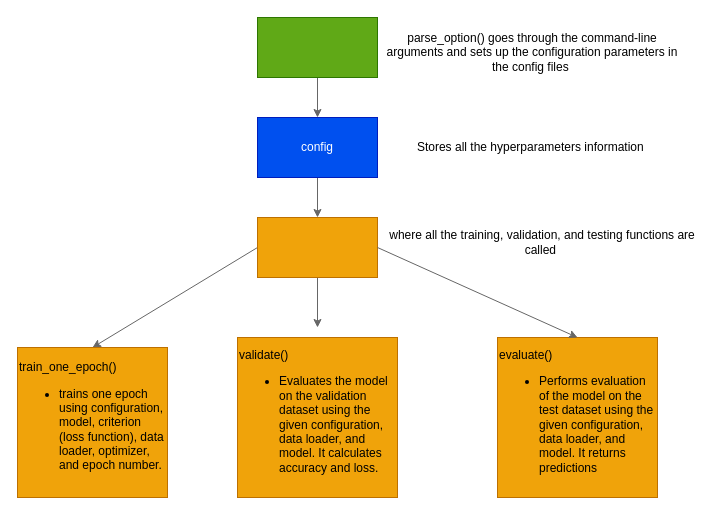
This 715x515 diagram has some shape labels left out. Each missing label, with the centre of its shape:
"main(config)" belongs at pixel 317 247.
"parse_option()" belongs at pixel 317 47.
